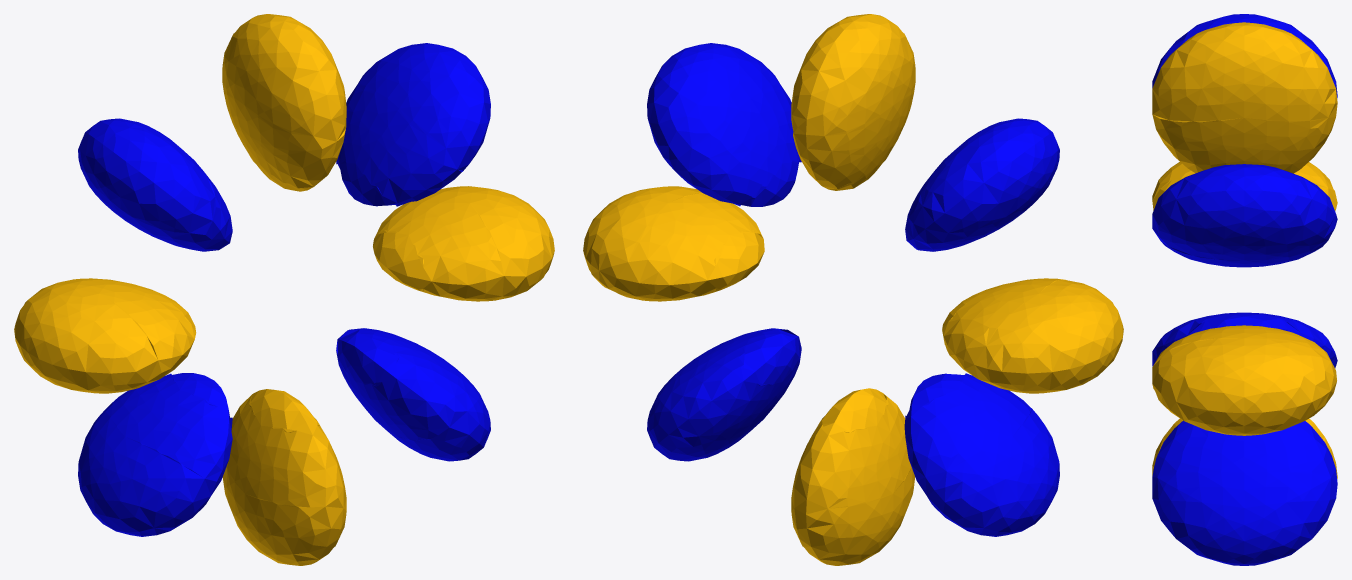
3 renders of one model, left to right at view 1: azimuth 30°, elevation 25°; view 2: azimuth 150°, elevation 25°; view 3: azimuth 270°, elevation 25°, orthographic.
Bounding box in the file's own units: 32.81 × 32.81 × 10.43.
